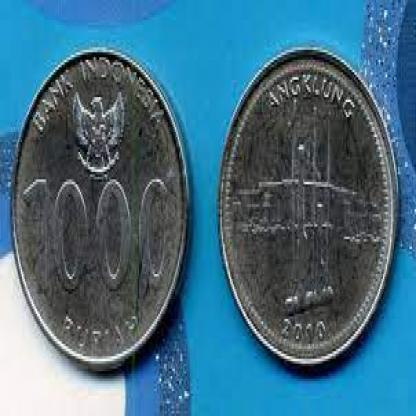coin_1000_e2010: (10, 44, 193, 377), (218, 40, 392, 375)
